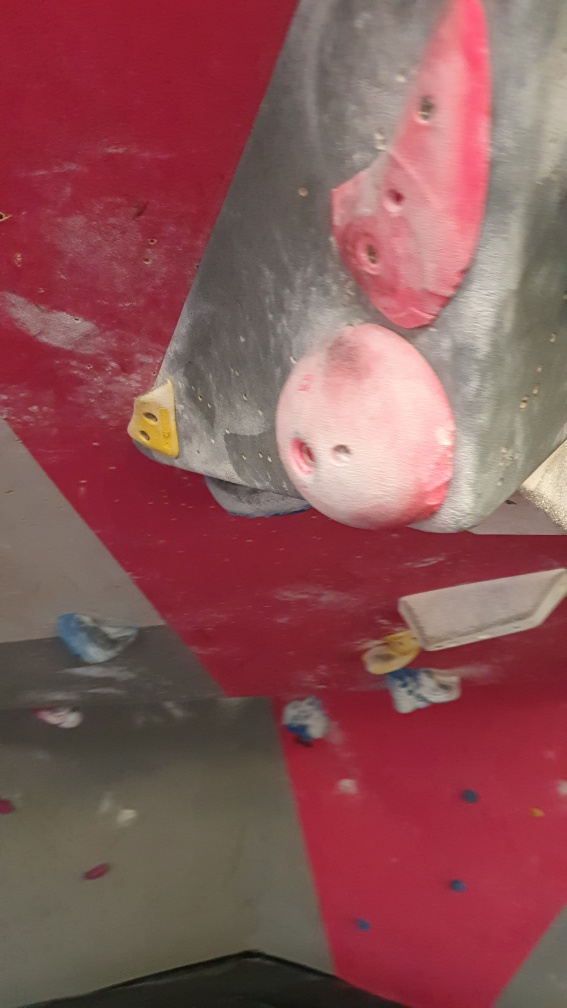Crimp: (125, 380, 182, 463)
Jug: (56, 610, 139, 669)
Sloper: (276, 322, 457, 534)
